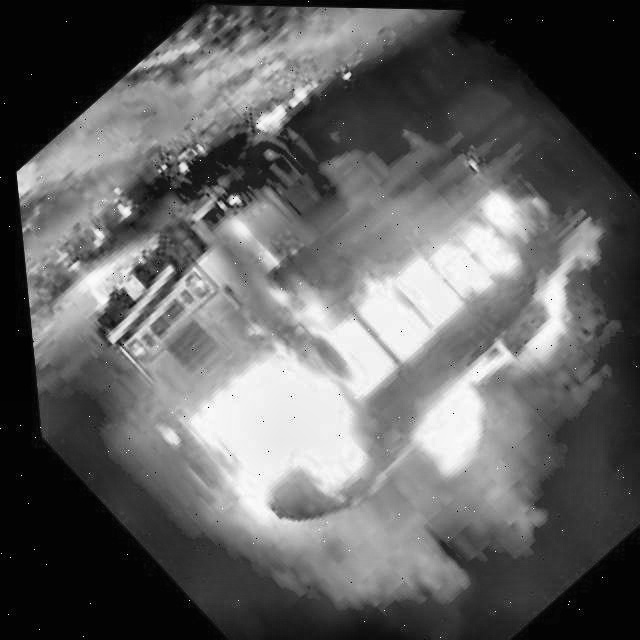Fire: (133, 128, 640, 620)
